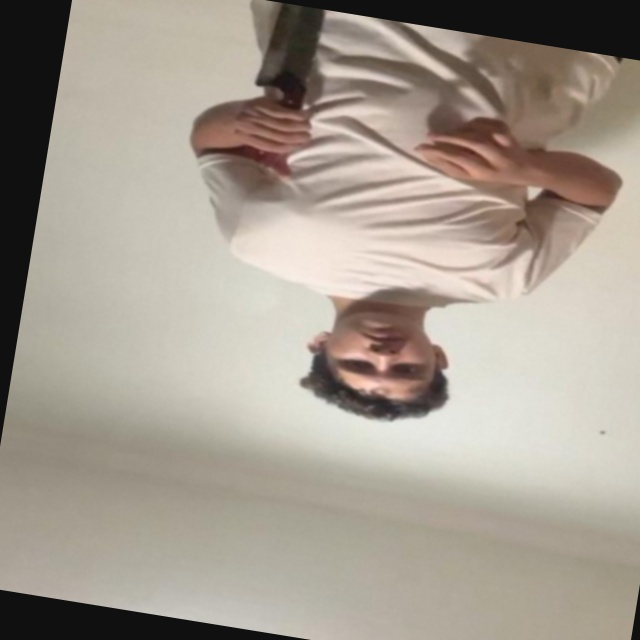Sharp-Object: (251, 0, 330, 100)
